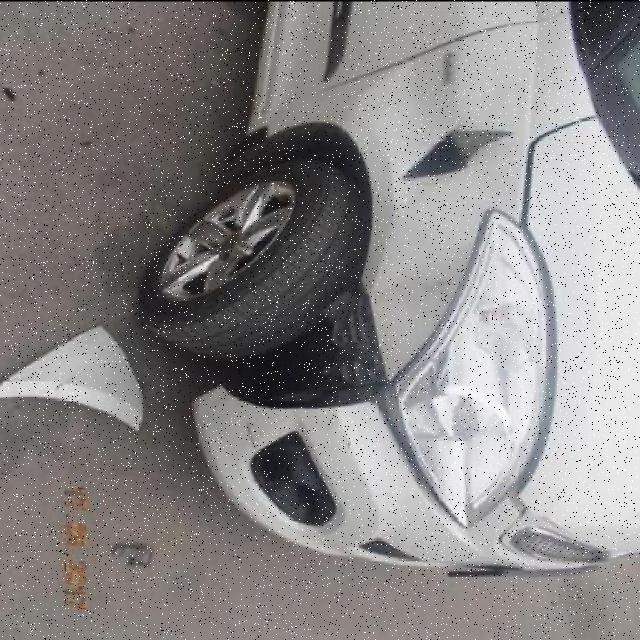damage: (398, 125, 519, 180), (221, 387, 375, 423)
